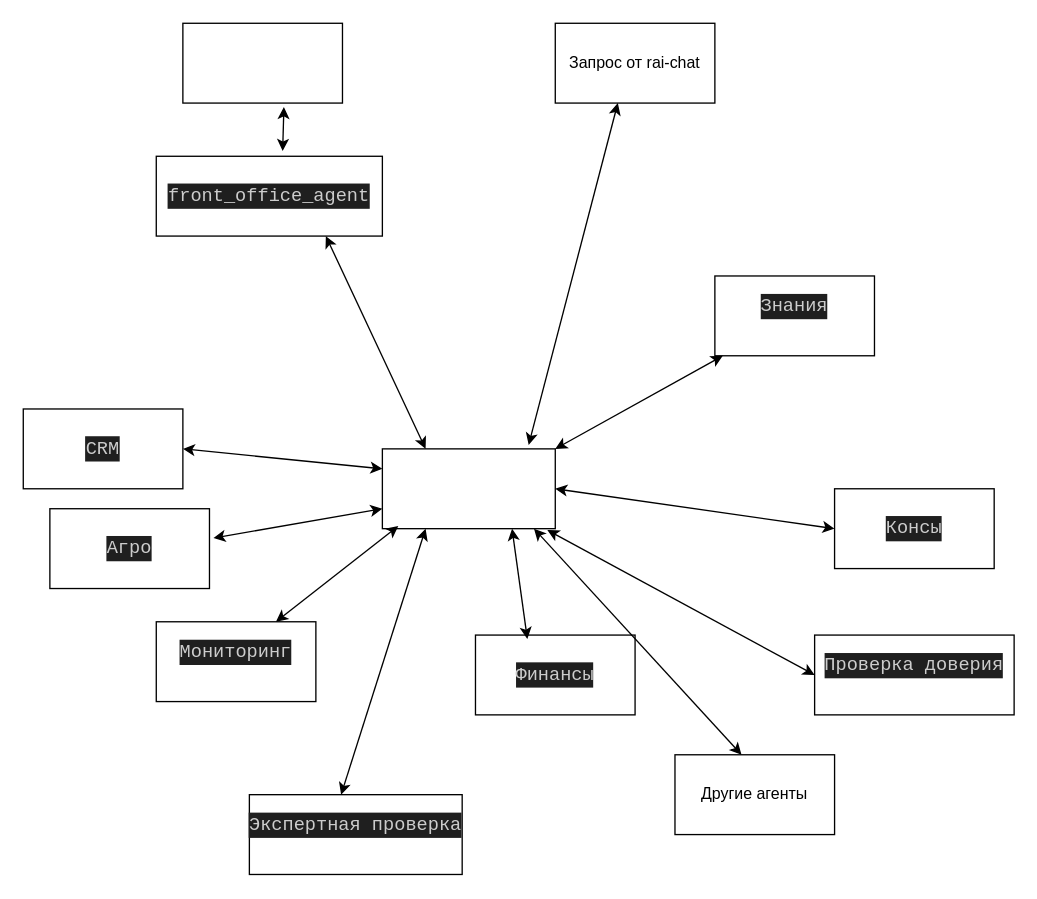
Some shapes in this 1037 by 899 pixel diagram are drawn without their labels. The centre of each missing label's shape, as x and y in pixels:
"Запрос от хозяйства" belongs at point 262,62.
"Оркестратор" belongs at point 468,488.
